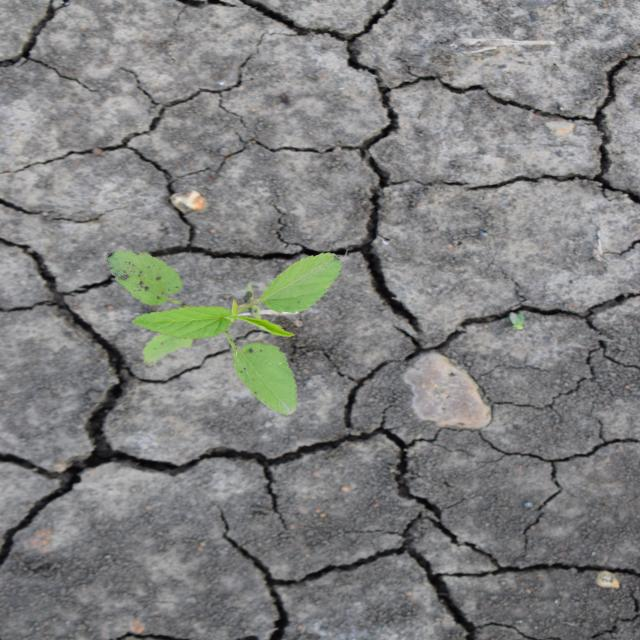PricklySida: (106, 245, 346, 418)
